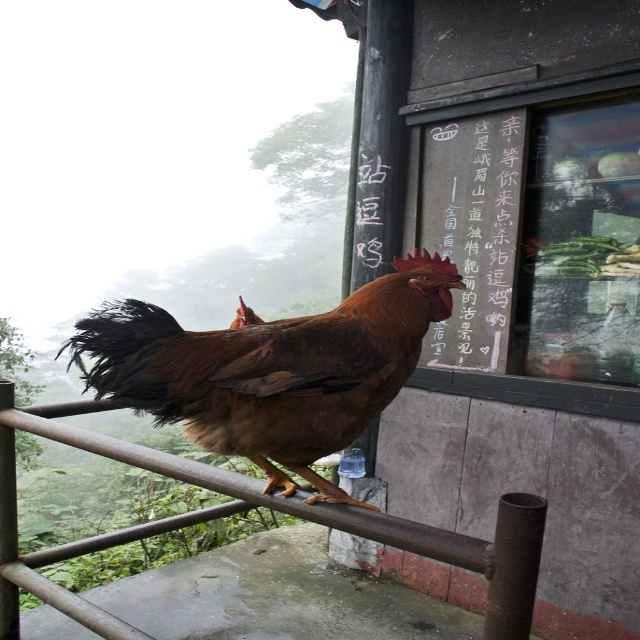Chicken: (44, 250, 473, 511)
